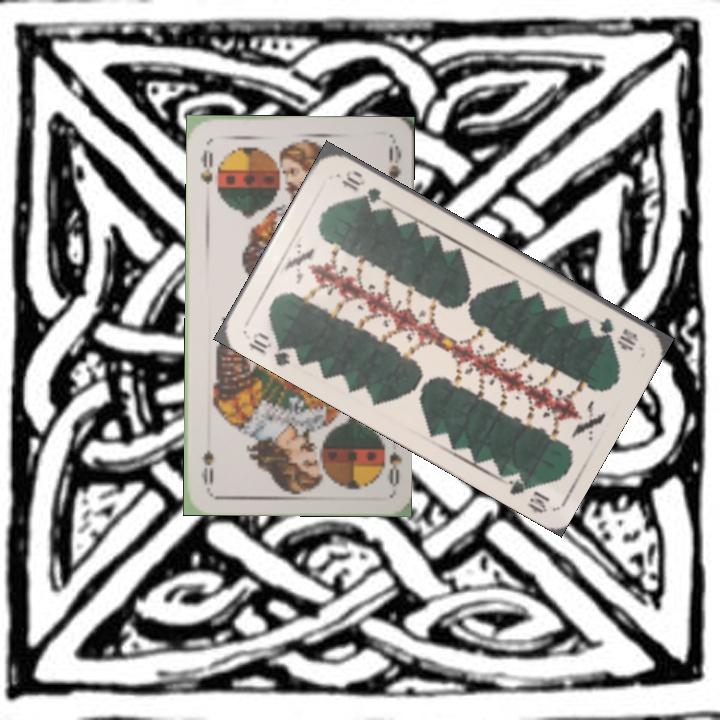G10: (244, 327, 301, 369), (595, 313, 641, 353)
SO: (196, 146, 216, 187), (385, 447, 403, 489)
